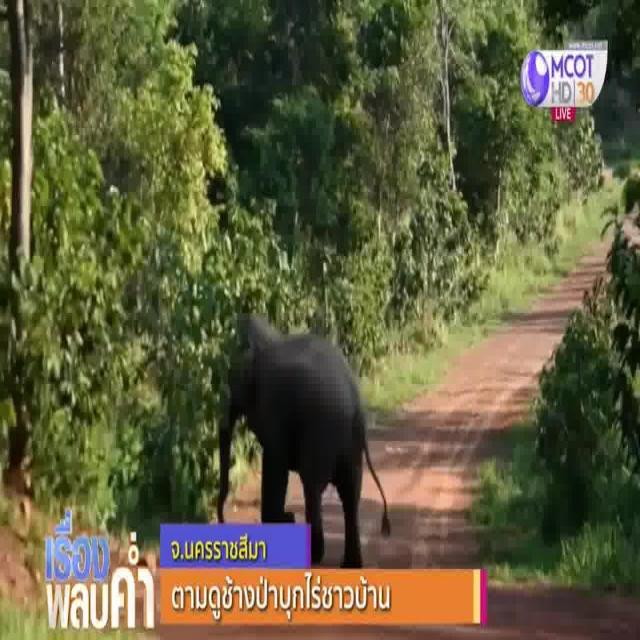Elephant: (230, 310, 375, 518)
